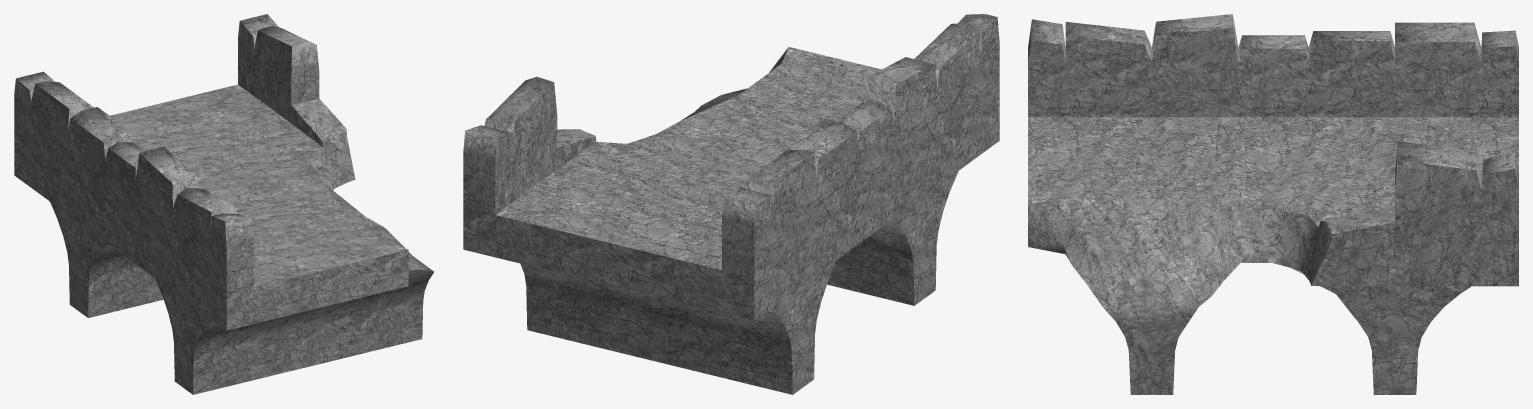
The model's file is materials_3_bridge_1.fbx.
3 renders of one model, left to right at view 1: azimuth 30°, elevation 25°; view 2: azimuth 150°, elevation 25°; view 3: azimuth 270°, elevation 25°, orthographic. The views are drawn at different scales.
Visible parts, largest first — view 1: materials_3_bridge_1; view 2: materials_3_bridge_1; view 3: materials_3_bridge_1.
Part boxes in pixels (x1,y1,x2,y2): materials_3_bridge_1: [14, 14, 434, 394]; materials_3_bridge_1: [463, 14, 999, 394]; materials_3_bridge_1: [1028, 14, 1518, 394].
Bounding box in the file's own units: 300 × 243 × 438.
